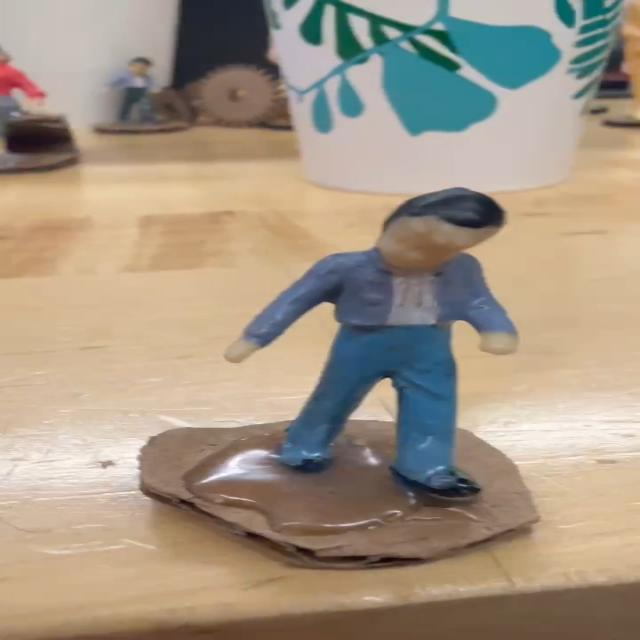Authorized: (149, 181, 591, 550)
